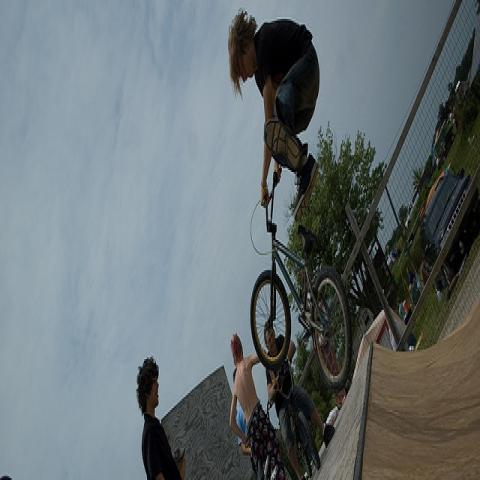car: (419, 162, 479, 288), (405, 188, 419, 230)
